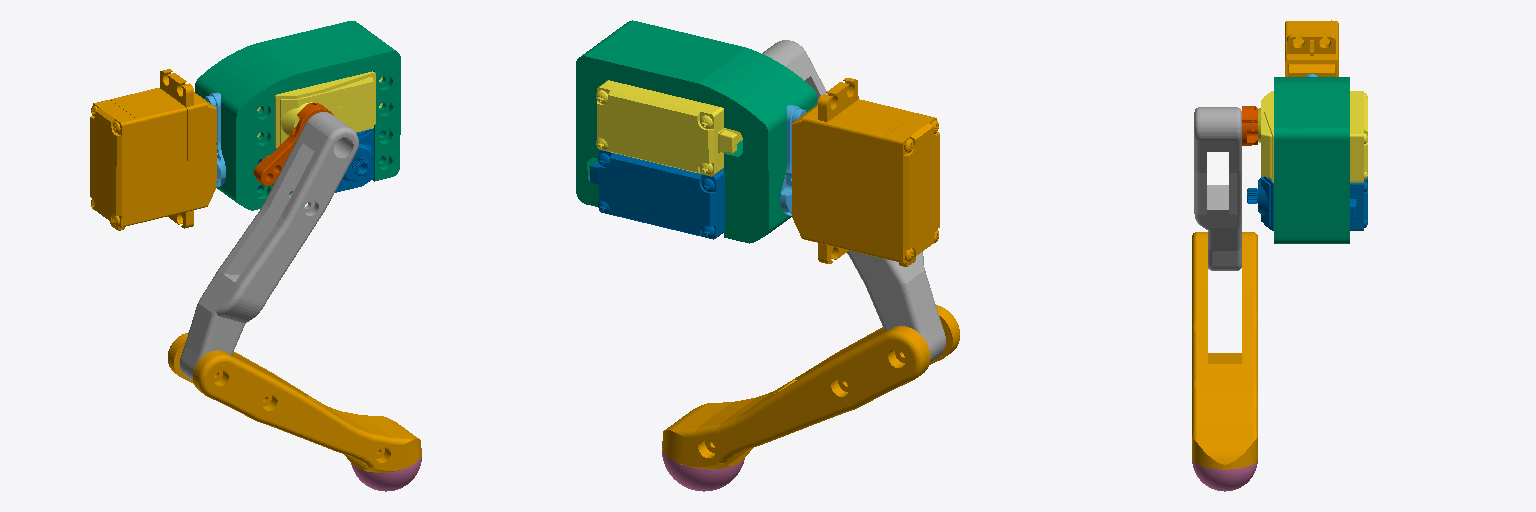
URDF robot description (simple_leg_pybullet):
<?xml version="1.0" ?>
<robot name="simple_leg_pybullet">

<material name="silver">
  <color rgba="0.700 0.700 0.700 1.000"/>
</material>

<link name="base_link">
  <inertial>
    <origin xyz="-0.7208494750892634 -0.12888386097309137 0.25163567862724456" rpy="0 0 0"/>
    <mass value="46.04548176197378"/>
    <inertia ixx="0.8017048676914813" iyy="1.2595635258587237" izz="0.7687726578689222" ixy="-4.669153952363558e-12" iyz="2.4889557082019564e-10" ixz="0.002589849941111666"/>
  </inertial>
  <visual>
    <origin xyz="0 0 0" rpy="0 0 0"/>
    <geometry>
      <mesh filename="meshes/base_link.stl" scale="0.001 0.001 0.001"/>
    </geometry>
    <material name="silver"/>
    <material/>
  </visual>
  <collision>
    <origin xyz="0 0 0" rpy="0 0 0"/>
    <geometry>
      <mesh filename="meshes/base_link.stl" scale="0.001 0.001 0.001"/>
    </geometry>
  </collision>
</link>

<link name="hip_servo_arm1">
  <inertial>
    <origin xyz="0.034092323822238035 -0.00014768049968458263 0.07860788048713585" rpy="0 0 0"/>
    <mass value="3.2700935144949623"/>
    <inertia ixx="0.03542949459257766" iyy="0.032642520701094524" izz="0.0045055699059785015" ixy="-2.6047868865175516e-06" iyz="0.0004059315391450047" ixz="-0.0003557361179699625"/>
  </inertial>
  <visual>
    <origin xyz="0.505484 0.128884 -0.152548" rpy="0 0 0"/>
    <geometry>
      <mesh filename="meshes/hip_servo_arm1.stl" scale="0.001 0.001 0.001"/>
    </geometry>
    <material name="silver"/>
    <material/>
  </visual>
  <collision>
    <origin xyz="0.505484 0.128884 -0.152548" rpy="0 0 0"/>
    <geometry>
      <mesh filename="meshes/hip_servo_arm1.stl" scale="0.001 0.001 0.001"/>
    </geometry>
  </collision>
</link>

<link name="knee_servo_holder1">
  <inertial>
    <origin xyz="0.2911322012883448 0.007341260874273475 0.15055385973447286" rpy="0 0 0"/>
    <mass value="34.703034418237515"/>
    <inertia ixx="1.023811488482926" iyy="2.8593040779316174" izz="2.335625995537532" ixy="-0.009668647534420871" iyz="0.01808321062817919" ixz="-0.19403734493725966"/>
  </inertial>
  <visual>
    <origin xyz="0.445484 0.128884 -0.152344" rpy="0 0 0"/>
    <geometry>
      <mesh filename="meshes/knee_servo_holder1.stl" scale="0.001 0.001 0.001"/>
    </geometry>
    <material name="silver"/>
    <material/>
  </visual>
  <collision>
    <origin xyz="0.445484 0.128884 -0.152344" rpy="0 0 0"/>
    <geometry>
      <mesh filename="meshes/knee_servo_holder1.stl" scale="0.001 0.001 0.001"/>
    </geometry>
  </collision>
</link>

<link name="knee_servo1">
  <inertial>
    <origin xyz="0.2292316617618021 0.05443474684650447 -0.05004347896974942" rpy="0 0 0"/>
    <mass value="46.04548176197379"/>
    <inertia ixx="0.7687962611612393" iyy="0.801686914226087" izz="1.259557876033734" ixy="-0.002701511393835454" iyz="9.166136898386412e-06" ixz="0.0016651571114383312"/>
  </inertial>
  <visual>
    <origin xyz="0.343989 0.173618 -0.390473" rpy="0 0 0"/>
    <geometry>
      <mesh filename="meshes/knee_servo1.stl" scale="0.001 0.001 0.001"/>
    </geometry>
    <material name="silver"/>
    <material/>
  </visual>
  <collision>
    <origin xyz="0.343989 0.173618 -0.390473" rpy="0 0 0"/>
    <geometry>
      <mesh filename="meshes/knee_servo1.stl" scale="0.001 0.001 0.001"/>
    </geometry>
  </collision>
</link>

<link name="tibia_servo1">
  <inertial>
    <origin xyz="-0.26209639394711215 0.05443474684650418 0.05328490784446349" rpy="0 0 0"/>
    <mass value="46.045481761973825"/>
    <inertia ixx="0.7687962611576804" iyy="0.8016869142236049" izz="1.2595578760347947" ixy="0.0027015113887906006" iyz="-9.166134777860435e-06" ixz="0.0016651571074425275"/>
  </inertial>
  <visual>
    <origin xyz="-0.14393 0.173618 -0.082155" rpy="0 0 0"/>
    <geometry>
      <mesh filename="meshes/tibia_servo1.stl" scale="0.001 0.001 0.001"/>
    </geometry>
    <material name="silver"/>
    <material/>
  </visual>
  <collision>
    <origin xyz="-0.14393 0.173618 -0.082155" rpy="0 0 0"/>
    <geometry>
      <mesh filename="meshes/tibia_servo1.stl" scale="0.001 0.001 0.001"/>
    </geometry>
  </collision>
</link>

<link name="knee_servo_arm1">
  <inertial>
    <origin xyz="-0.06379990442981712 -0.033825103255293365 -0.04611829989889332" rpy="0 0 0"/>
    <mass value="3.2700935144949637"/>
    <inertia ixx="0.014495503196780168" iyy="0.03543155247995455" izz="0.022650529558752908" ixy="-0.0002058635609396009" iyz="-0.0001433153360398398" ixz="-0.013471808043867994"/>
  </inertial>
  <visual>
    <origin xyz="0.213114 0.334884 -0.340763" rpy="0 0 0"/>
    <geometry>
      <mesh filename="meshes/knee_servo_arm1.stl" scale="0.001 0.001 0.001"/>
    </geometry>
    <material name="silver"/>
    <material/>
  </visual>
  <collision>
    <origin xyz="0.213114 0.334884 -0.340763" rpy="0 0 0"/>
    <geometry>
      <mesh filename="meshes/knee_servo_arm1.stl" scale="0.001 0.001 0.001"/>
    </geometry>
  </collision>
</link>

<link name="leg_foot1Component161">
  <inertial>
    <origin xyz="-0.009597033813685287 0.004998466966501802 0.001971081667967667" rpy="0 0 0"/>
    <mass value="4.115954761083666"/>
    <inertia ixx="0.08128951131559603" iyy="0.07805791909566073" izz="0.03652057542960385" ixy="-0.0020446075032746133" iyz="-0.02090309762623699" ixz="-0.0003462892726148539"/>
  </inertial>
  <visual>
    <origin xyz="-0.024664 0.458884 0.945855" rpy="0 0 0"/>
    <geometry>
      <mesh filename="meshes/leg_foot1Component161.stl" scale="0.001 0.001 0.001"/>
    </geometry>
    <material name="silver"/>
    <material/>
  </visual>
  <collision>
    <origin xyz="-0.024664 0.458884 0.945855" rpy="0 0 0"/>
    <geometry>
      <mesh filename="meshes/leg_foot1Component161.stl" scale="0.001 0.001 0.001"/>
    </geometry>
  </collision>
</link>

<link name="leg_tibia1">
  <inertial>
    <origin xyz="-0.26929226364819947 -0.08190966861924237 -0.38738841977327093" rpy="0 0 0"/>
    <mass value="16.745590583555348"/>
    <inertia ixx="1.0719037610437123" iyy="1.5337573766475576" izz="0.5637986687243881" ixy="0.016616254344223425" iyz="0.024606718629198387" ixz="-0.6933508003516472"/>
  </inertial>
  <visual>
    <origin xyz="0.213114 0.394884 -0.340763" rpy="0 0 0"/>
    <geometry>
      <mesh filename="meshes/leg_tibia1.stl" scale="0.001 0.001 0.001"/>
    </geometry>
    <material name="silver"/>
    <material/>
  </visual>
  <collision>
    <origin xyz="0.213114 0.394884 -0.340763" rpy="0 0 0"/>
    <geometry>
      <mesh filename="meshes/leg_tibia1.stl" scale="0.001 0.001 0.001"/>
    </geometry>
  </collision>
</link>

<link name="leg_ankle1">
  <inertial>
    <origin xyz="0.3923382836808676 0.06599569282723788 -0.2698106316820683" rpy="0 0 0"/>
    <mass value="22.20997101680633"/>
    <inertia ixx="0.7104830009441105" iyy="1.8142275849970257" izz="1.4151463313382582" ixy="2.7837056675306115e-05" iyz="8.148251020578812e-06" ixz="0.7934334818267423"/>
  </inertial>
  <visual>
    <origin xyz="0.709852 0.524884 0.426566" rpy="0 0 0"/>
    <geometry>
      <mesh filename="meshes/leg_ankle1.stl" scale="0.001 0.001 0.001"/>
    </geometry>
    <material name="silver"/>
    <material/>
  </visual>
  <collision>
    <origin xyz="0.709852 0.524884 0.426566" rpy="0 0 0"/>
    <geometry>
      <mesh filename="meshes/leg_ankle1.stl" scale="0.001 0.001 0.001"/>
    </geometry>
  </collision>
</link>

<joint name="hip_joint" type="continuous">
  <origin xyz="-0.505484 -0.128884 0.152548" rpy="0 0 0"/>
  <parent link="base_link"/>
  <child link="hip_servo_arm1"/>
  <axis xyz="-0.999994 0.0 0.003393"/>
</joint>
<transmission name="hip_joint_tran">
  <type>transmission_interface/SimpleTransmission</type>
  <joint name="hip_joint">
    <hardwareInterface>PositionJointInterface</hardwareInterface>
  </joint>
  <actuator name="hip_joint_actr">
    <hardwareInterface>PositionJointInterface</hardwareInterface>
    <mechanicalReduction>1</mechanicalReduction>
  </actuator>
</transmission>

<joint name="Rigid_24" type="fixed">
  <origin xyz="0.06 0.0 -0.000204" rpy="0 0 0"/>
  <parent link="hip_servo_arm1"/>
  <child link="knee_servo_holder1"/>
</joint>

<joint name="Rigid_25" type="fixed">
  <origin xyz="0.101495 -0.044734 0.238129" rpy="0 0 0"/>
  <parent link="knee_servo_holder1"/>
  <child link="knee_servo1"/>
</joint>

<joint name="Rigid_26" type="fixed">
  <origin xyz="0.589414 -0.044734 -0.070189" rpy="0 0 0"/>
  <parent link="knee_servo_holder1"/>
  <child link="tibia_servo1"/>
</joint>

<joint name="knee_joint" type="continuous">
  <origin xyz="0.130875 -0.161266 -0.04971" rpy="0 0 0"/>
  <parent link="knee_servo1"/>
  <child link="knee_servo_arm1"/>
  <axis xyz="0.0 1.0 -0.0"/>
</joint>
<transmission name="knee_joint_tran">
  <type>transmission_interface/SimpleTransmission</type>
  <joint name="knee_joint">
    <hardwareInterface>PositionJointInterface</hardwareInterface>
  </joint>
  <actuator name="knee_joint_actr">
    <hardwareInterface>PositionJointInterface</hardwareInterface>
    <mechanicalReduction>1</mechanicalReduction>
  </actuator>
</transmission>

<joint name="Rigid_35" type="fixed">
  <origin xyz="0.734516 0.066 -0.519289" rpy="0 0 0"/>
  <parent link="leg_ankle1"/>
  <child link="leg_foot1Component161"/>
</joint>

<joint name="Rigid_37" type="fixed">
  <origin xyz="0.0 -0.06 0.0" rpy="0 0 0"/>
  <parent link="knee_servo_arm1"/>
  <child link="leg_tibia1"/>
</joint>

<joint name="tibia_joint" type="continuous">
  <origin xyz="-0.496738 -0.13 -0.767329" rpy="0 0 0"/>
  <parent link="leg_tibia1"/>
  <child link="leg_ankle1"/>
  <axis xyz="0.0 1.0 -0.0"/>
</joint>
<transmission name="tibia_joint_tran">
  <type>transmission_interface/SimpleTransmission</type>
  <joint name="tibia_joint">
    <hardwareInterface>PositionJointInterface</hardwareInterface>
  </joint>
  <actuator name="tibia_joint_actr">
    <hardwareInterface>PositionJointInterface</hardwareInterface>
    <mechanicalReduction>1</mechanicalReduction>
  </actuator>
</transmission>

</robot>

--- What the picture shows (computed from the rendered views, not written in the file) ---
Views: 3 orthographic renders of the robot side by side, from view 1: azimuth 30°, elevation 25°; view 2: azimuth 150°, elevation 25°; view 3: azimuth 270°, elevation 25°.
Model simple_leg_pybullet with 9 links and 8 joints (3 continuous, 5 fixed), rooted at base_link, posed all joints at 0.
Visible links, largest first — view 1: knee_servo_holder1, base_link, leg_tibia1, leg_ankle1, knee_servo1, knee_servo_arm1, tibia_servo1, leg_foot1Component161, hip_servo_arm1; view 2: knee_servo_holder1, base_link, leg_ankle1, knee_servo1, tibia_servo1, leg_tibia1, leg_foot1Component161, hip_servo_arm1; view 3: knee_servo_holder1, leg_ankle1, leg_tibia1, base_link, knee_servo1, tibia_servo1, leg_foot1Component161, knee_servo_arm1.
Link boxes in pixels (<box>): knee_servo_holder1: <box>195,21,400,210</box>; base_link: <box>90,69,216,230</box>; leg_tibia1: <box>180,112,358,380</box>; leg_ankle1: <box>168,332,421,472</box>; knee_servo1: <box>257,71,382,147</box>; knee_servo_arm1: <box>254,103,333,185</box>; tibia_servo1: <box>257,128,382,194</box>; leg_foot1Component161: <box>351,456,421,491</box>; hip_servo_arm1: <box>204,92,225,186</box>; knee_servo_holder1: <box>576,20,816,243</box>; base_link: <box>792,78,939,266</box>; leg_ankle1: <box>662,305,959,469</box>; knee_servo1: <box>596,80,742,176</box>; tibia_servo1: <box>590,150,724,239</box>; leg_tibia1: <box>762,40,945,361</box>; leg_foot1Component161: <box>662,449,744,491</box>; hip_servo_arm1: <box>780,105,806,215</box>; knee_servo_holder1: <box>1274,77,1349,243</box>; leg_ankle1: <box>1192,232,1257,469</box>; leg_tibia1: <box>1194,107,1241,270</box>; base_link: <box>1285,20,1338,76</box>; knee_servo1: <box>1258,91,1367,182</box>; tibia_servo1: <box>1247,176,1367,230</box>; leg_foot1Component161: <box>1192,460,1257,491</box>; knee_servo_arm1: <box>1242,106,1257,145</box>.
Bounding box of the posed robot: 1.11 × 0.6681 × 1.59 m (x, y, z).
9 mesh visuals loaded from 9 distinct referenced files (9 binary STL).